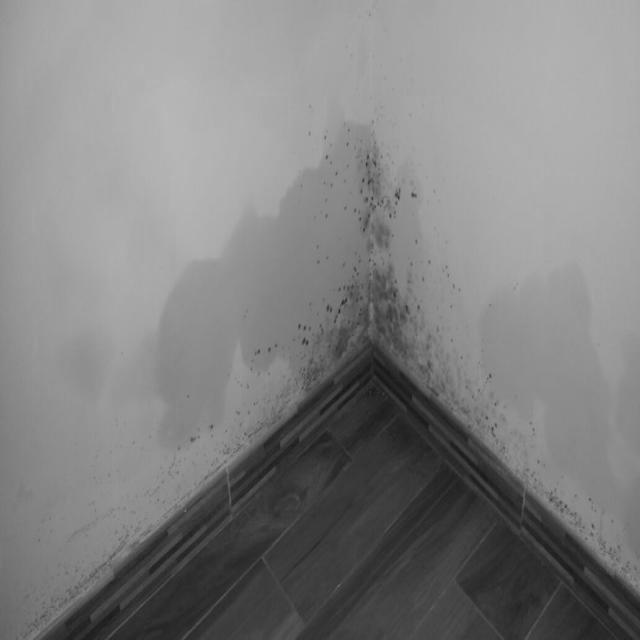stain marks: (314, 120, 468, 379), (0, 463, 214, 640), (126, 320, 320, 464), (430, 320, 543, 502), (544, 474, 640, 600)
